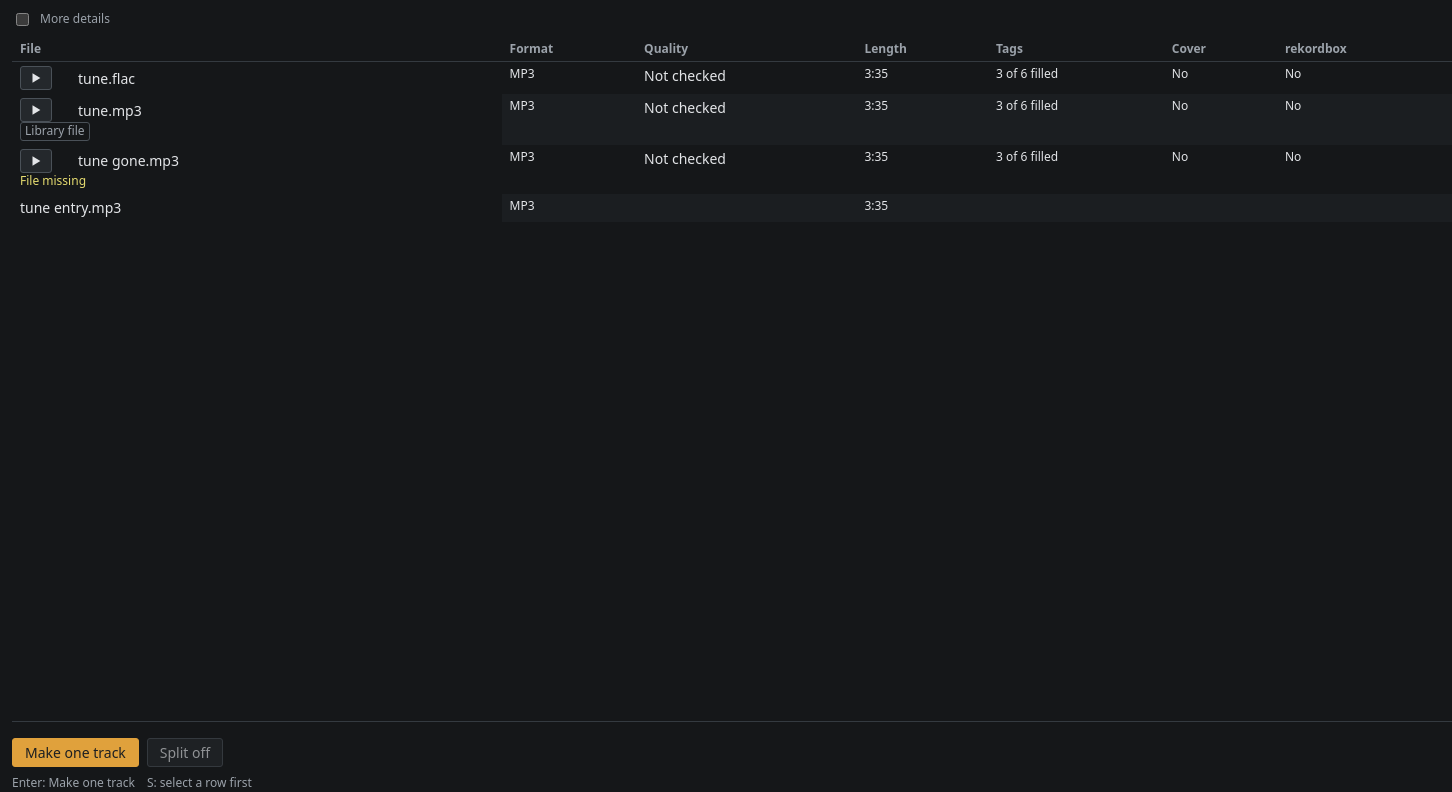
playing the files of a Review item › never sets the audio source for a row whose file the player refuses
Click the button named "Play tune gone.mp3" at (36, 161), box [20,149,52,173]
(page scrolled)
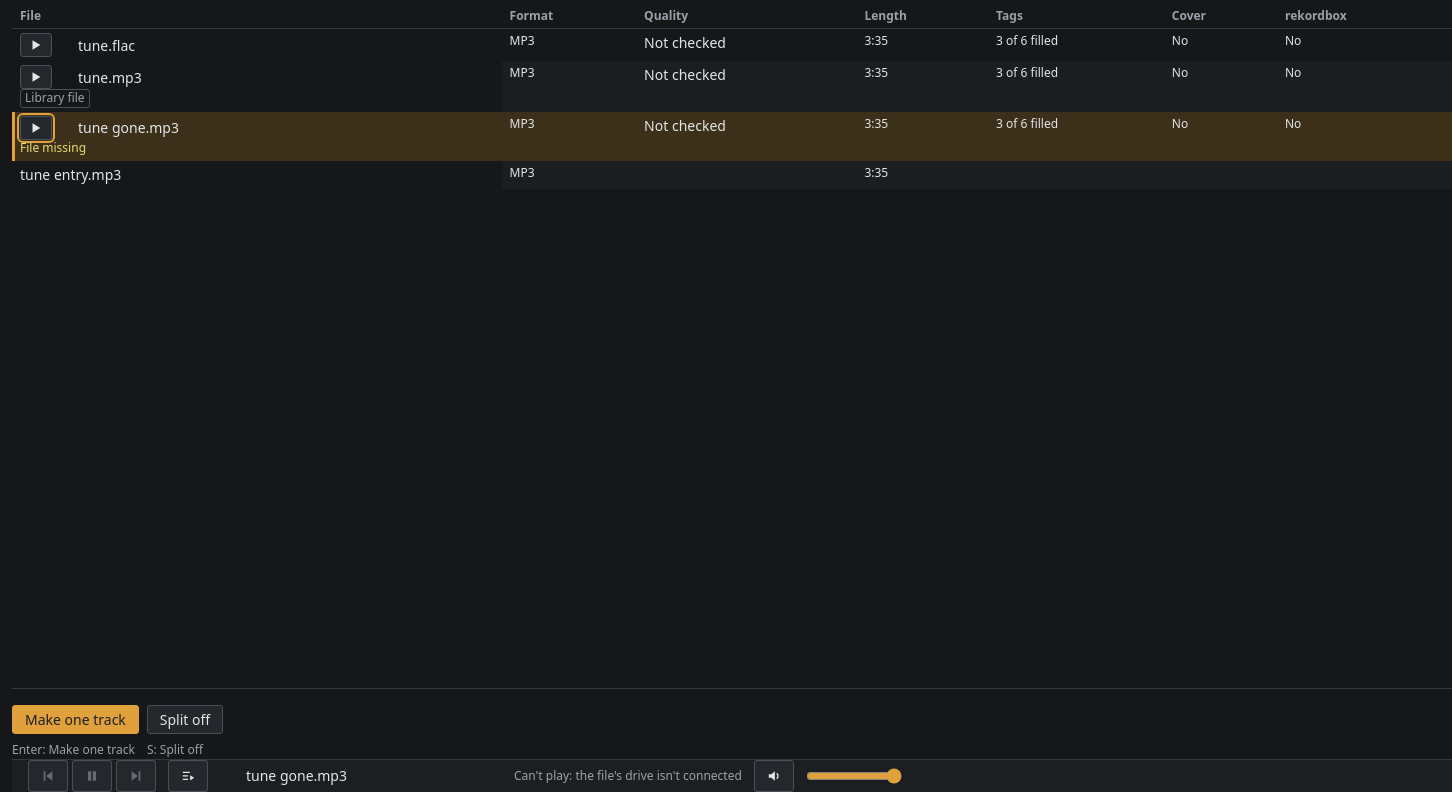
expect the message reads "Can't play: the file's drive isn't connected": met, box [514,767,742,784]
